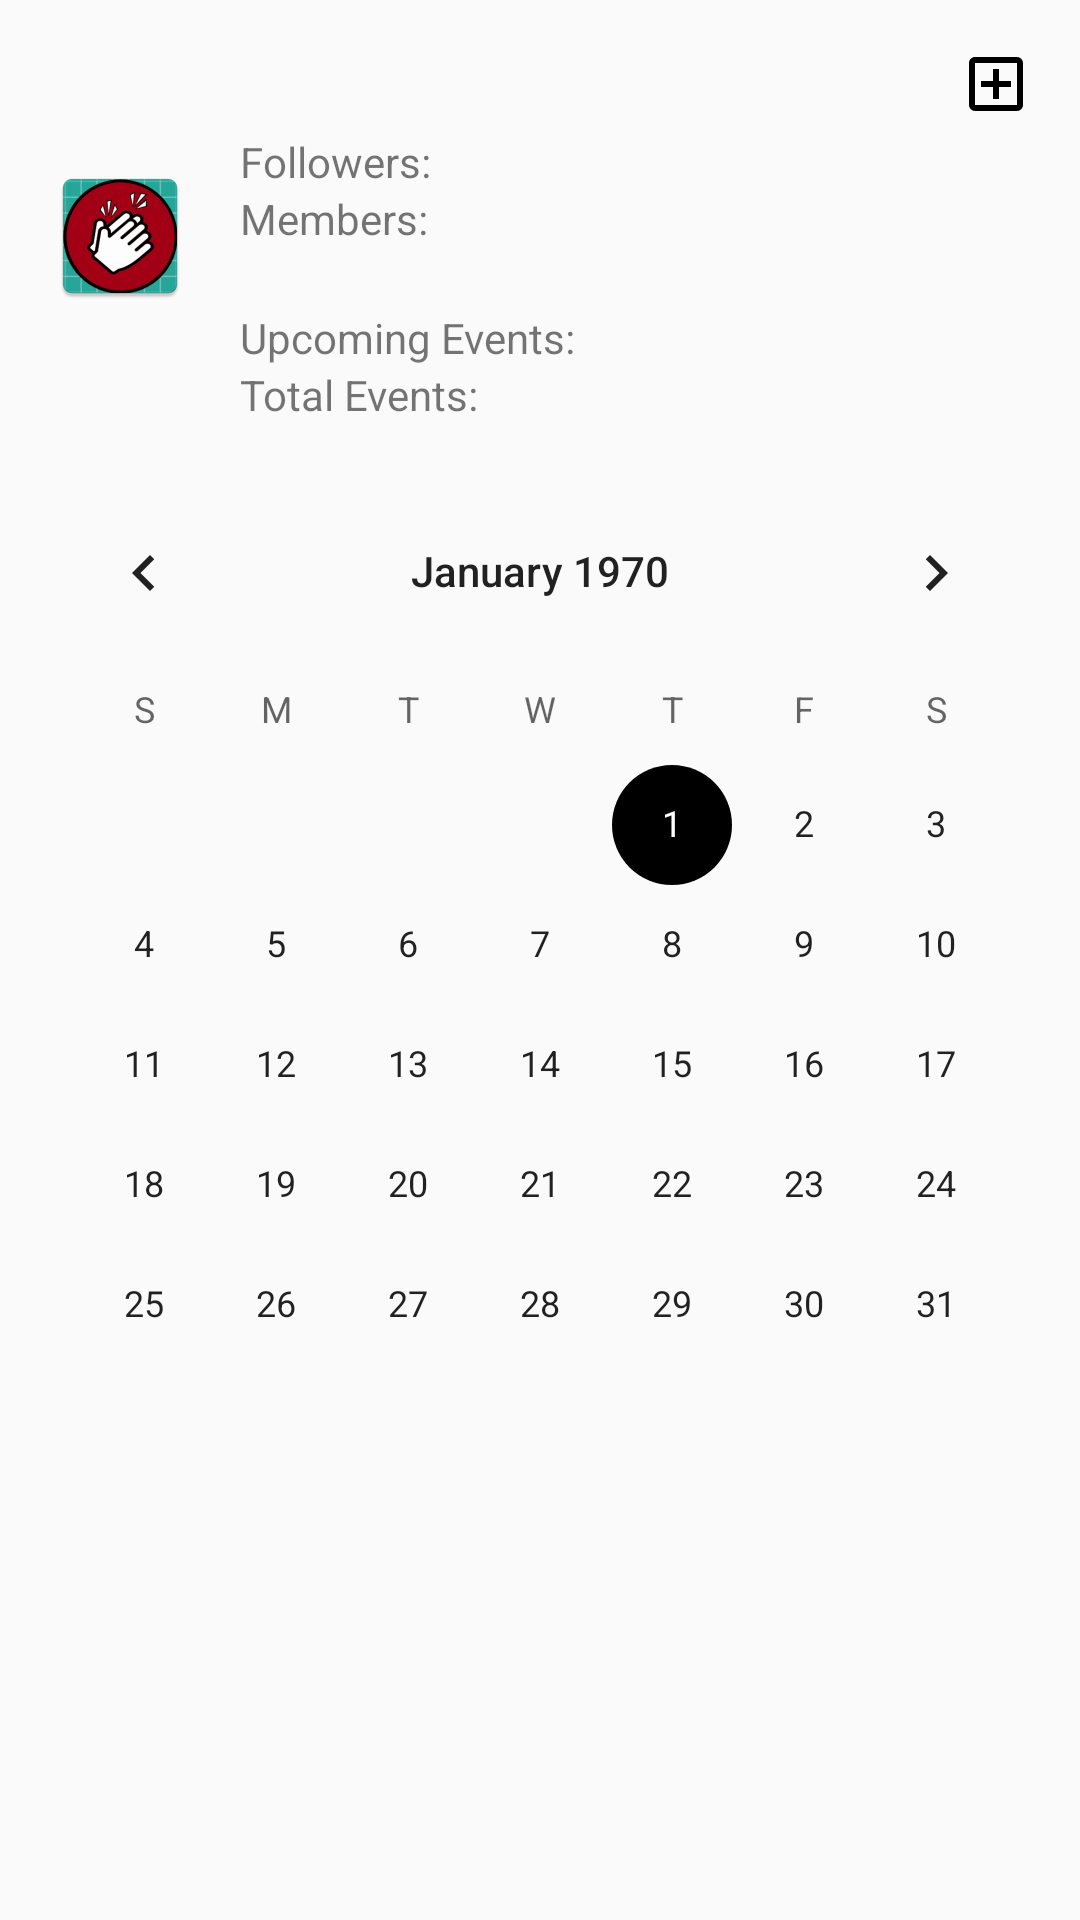

Icons on this 1080w x 1920h Android screen, each with the point to tap as point (x, y):
plus box: point (996, 84)
